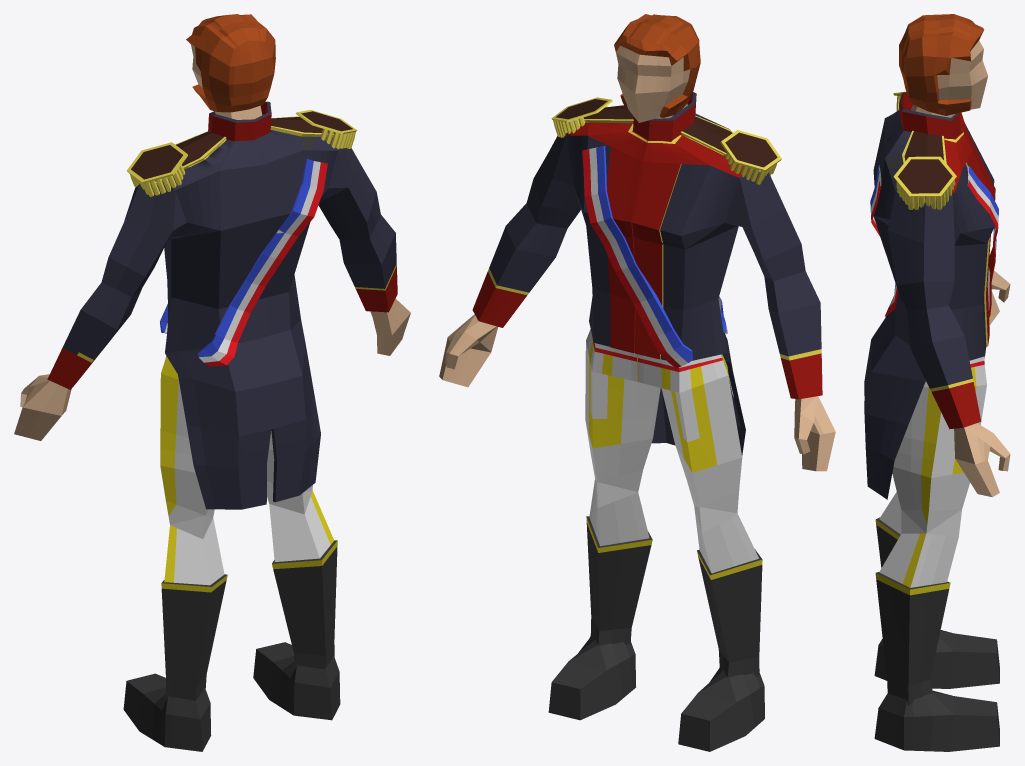
The model's file is Bernardo OhigginsV4.fbx.
3 renders of one model, left to right at view 1: azimuth 30°, elevation 25°; view 2: azimuth 150°, elevation 25°; view 3: azimuth 270°, elevation 25°, orthographic.
Parts seen in each view (by area): view 1: Ohiggins; view 2: Ohiggins; view 3: Ohiggins.
Boxes of the visible parts, x1=… form: Ohiggins: x1=14, y1=14, x2=410, y2=751; Ohiggins: x1=439, y1=14, x2=835, y2=751; Ohiggins: x1=864, y1=14, x2=1010, y2=751.
Size of the model in its own units: 108 by 183 by 35.19.
